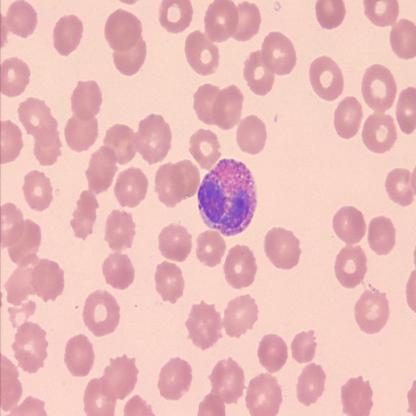Eosinophil: (197, 156, 259, 235)
